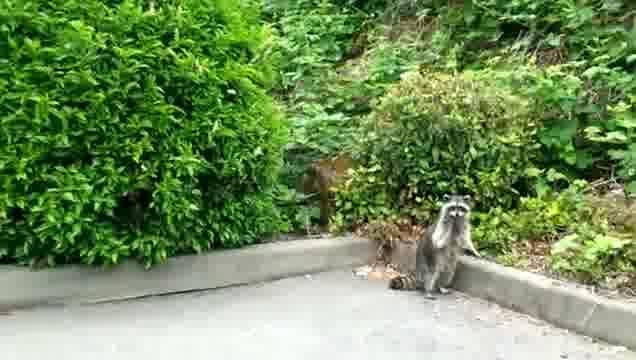raccoon: (389, 193, 484, 302)
